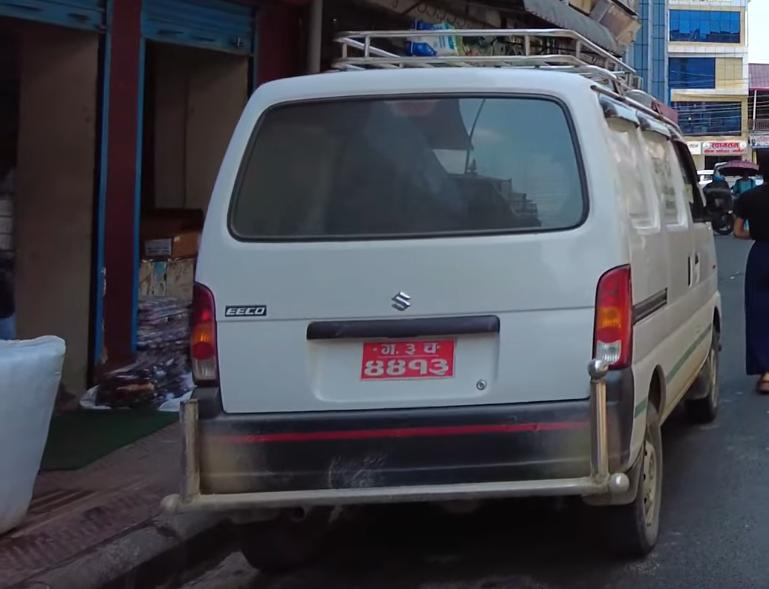van: (145, 20, 742, 563)
